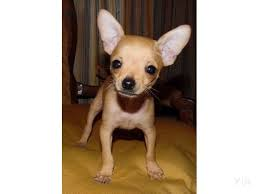chihuahua: (79, 3, 192, 187)
